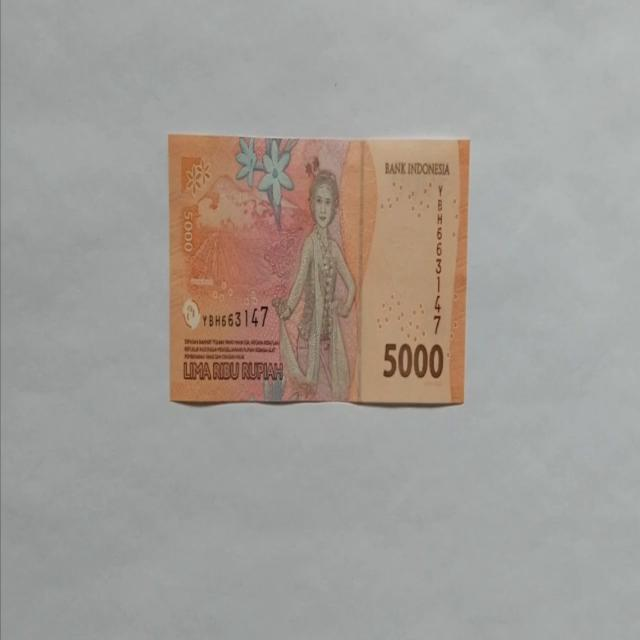lima ribu rupiah: (168, 132, 470, 408), (271, 168, 357, 402)
